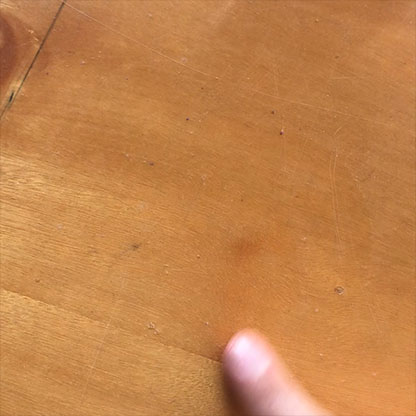fingertip: (219, 325, 291, 394)
